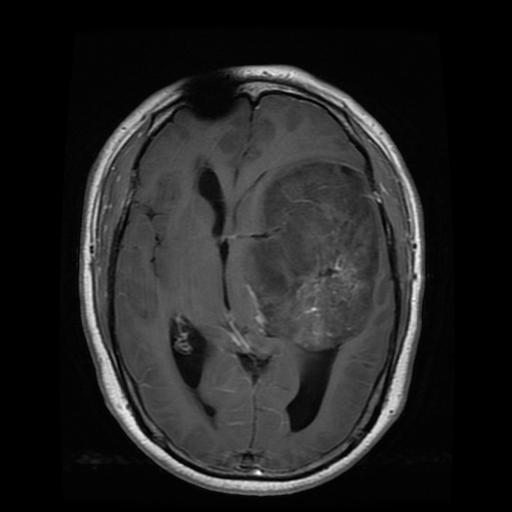Gliomia_tumour: (249, 160, 379, 350)
